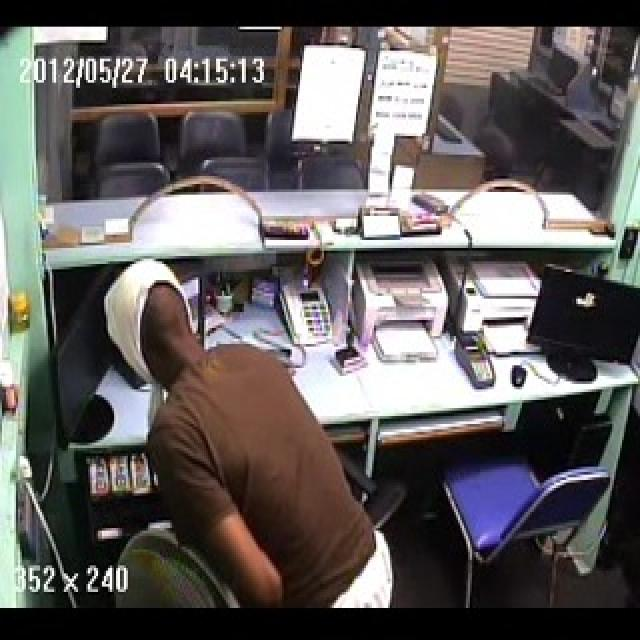thief: (72, 264, 406, 608)
